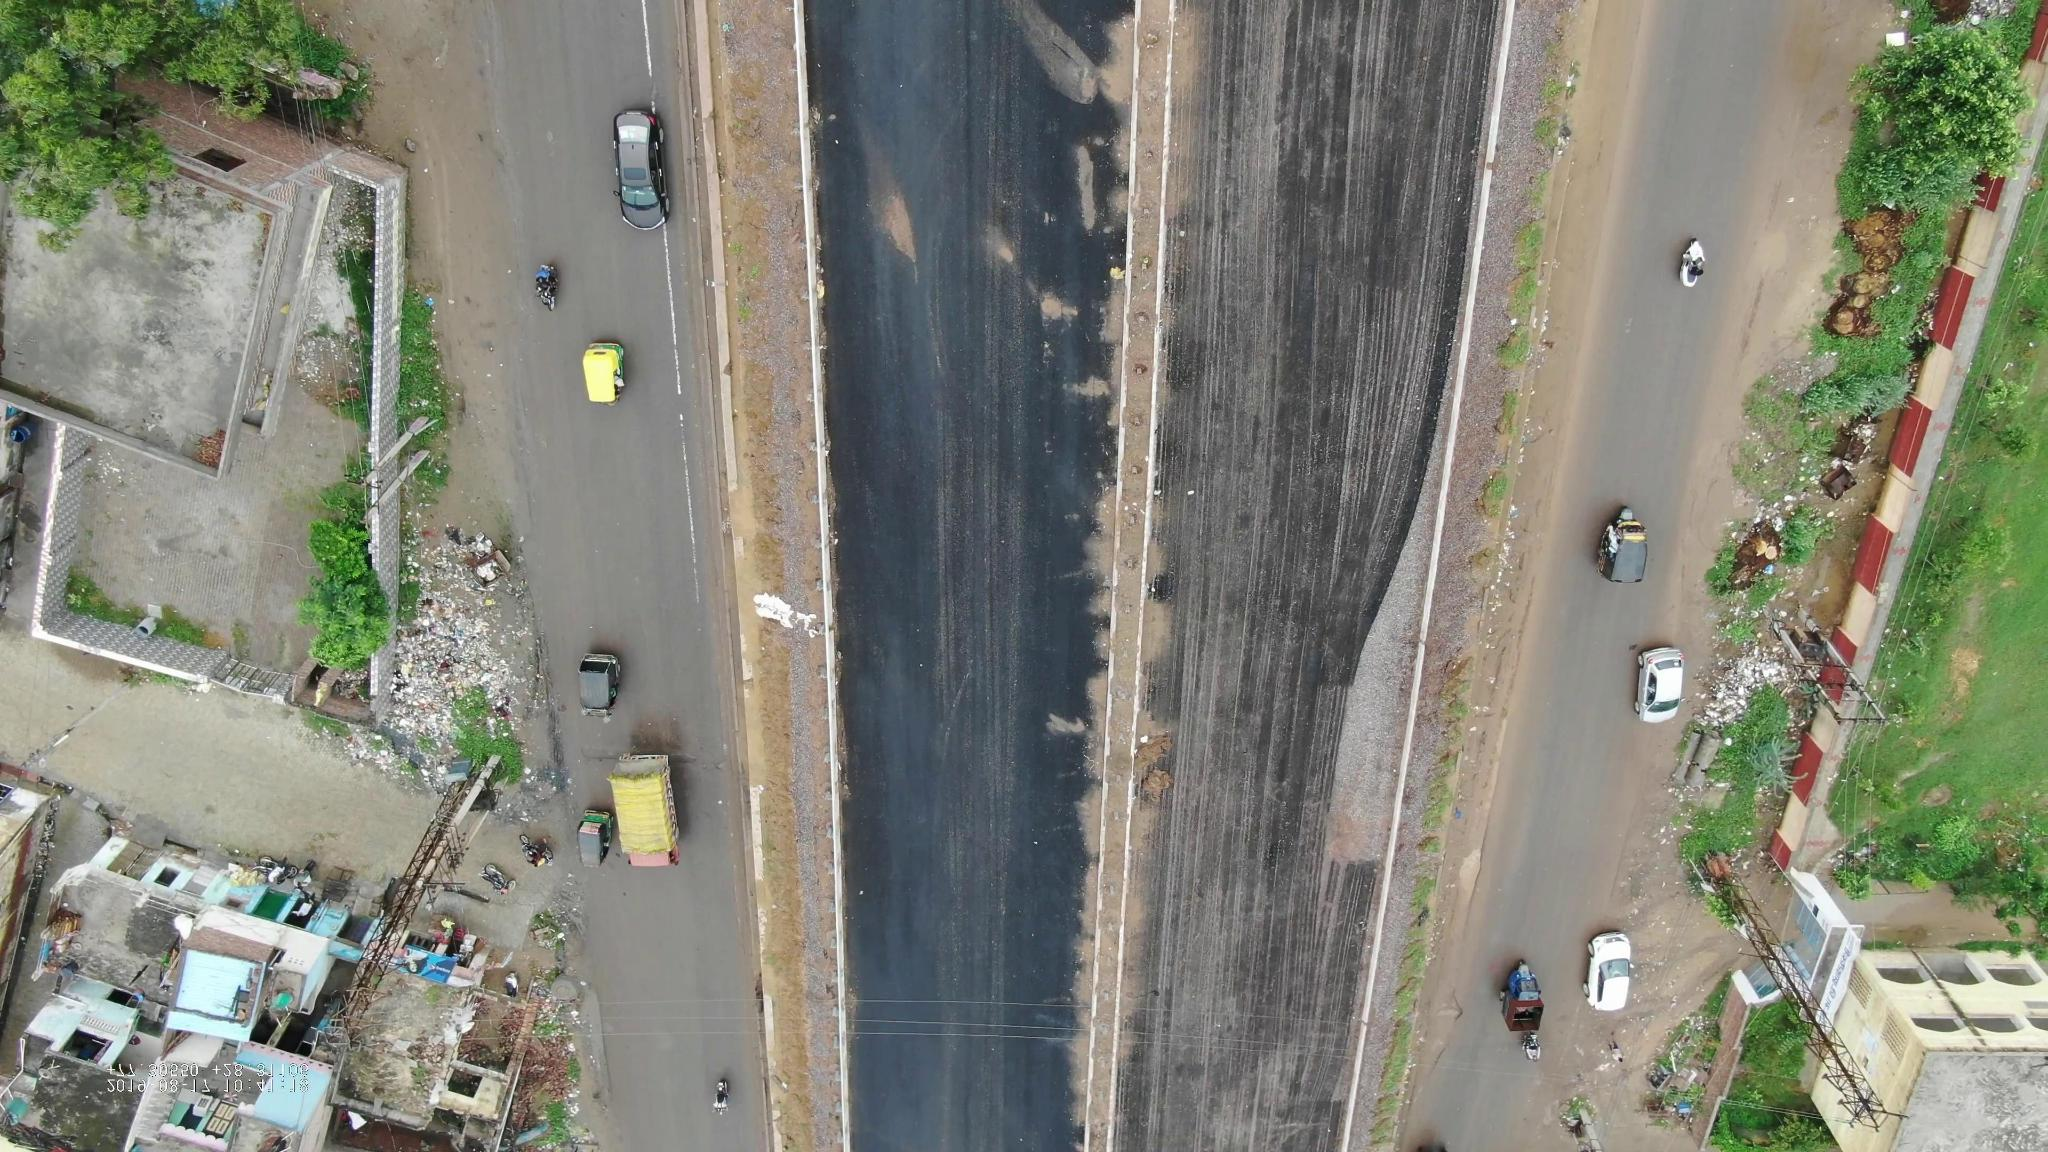Road_side_garbage: (377, 589, 525, 740), (1696, 644, 1793, 743)
